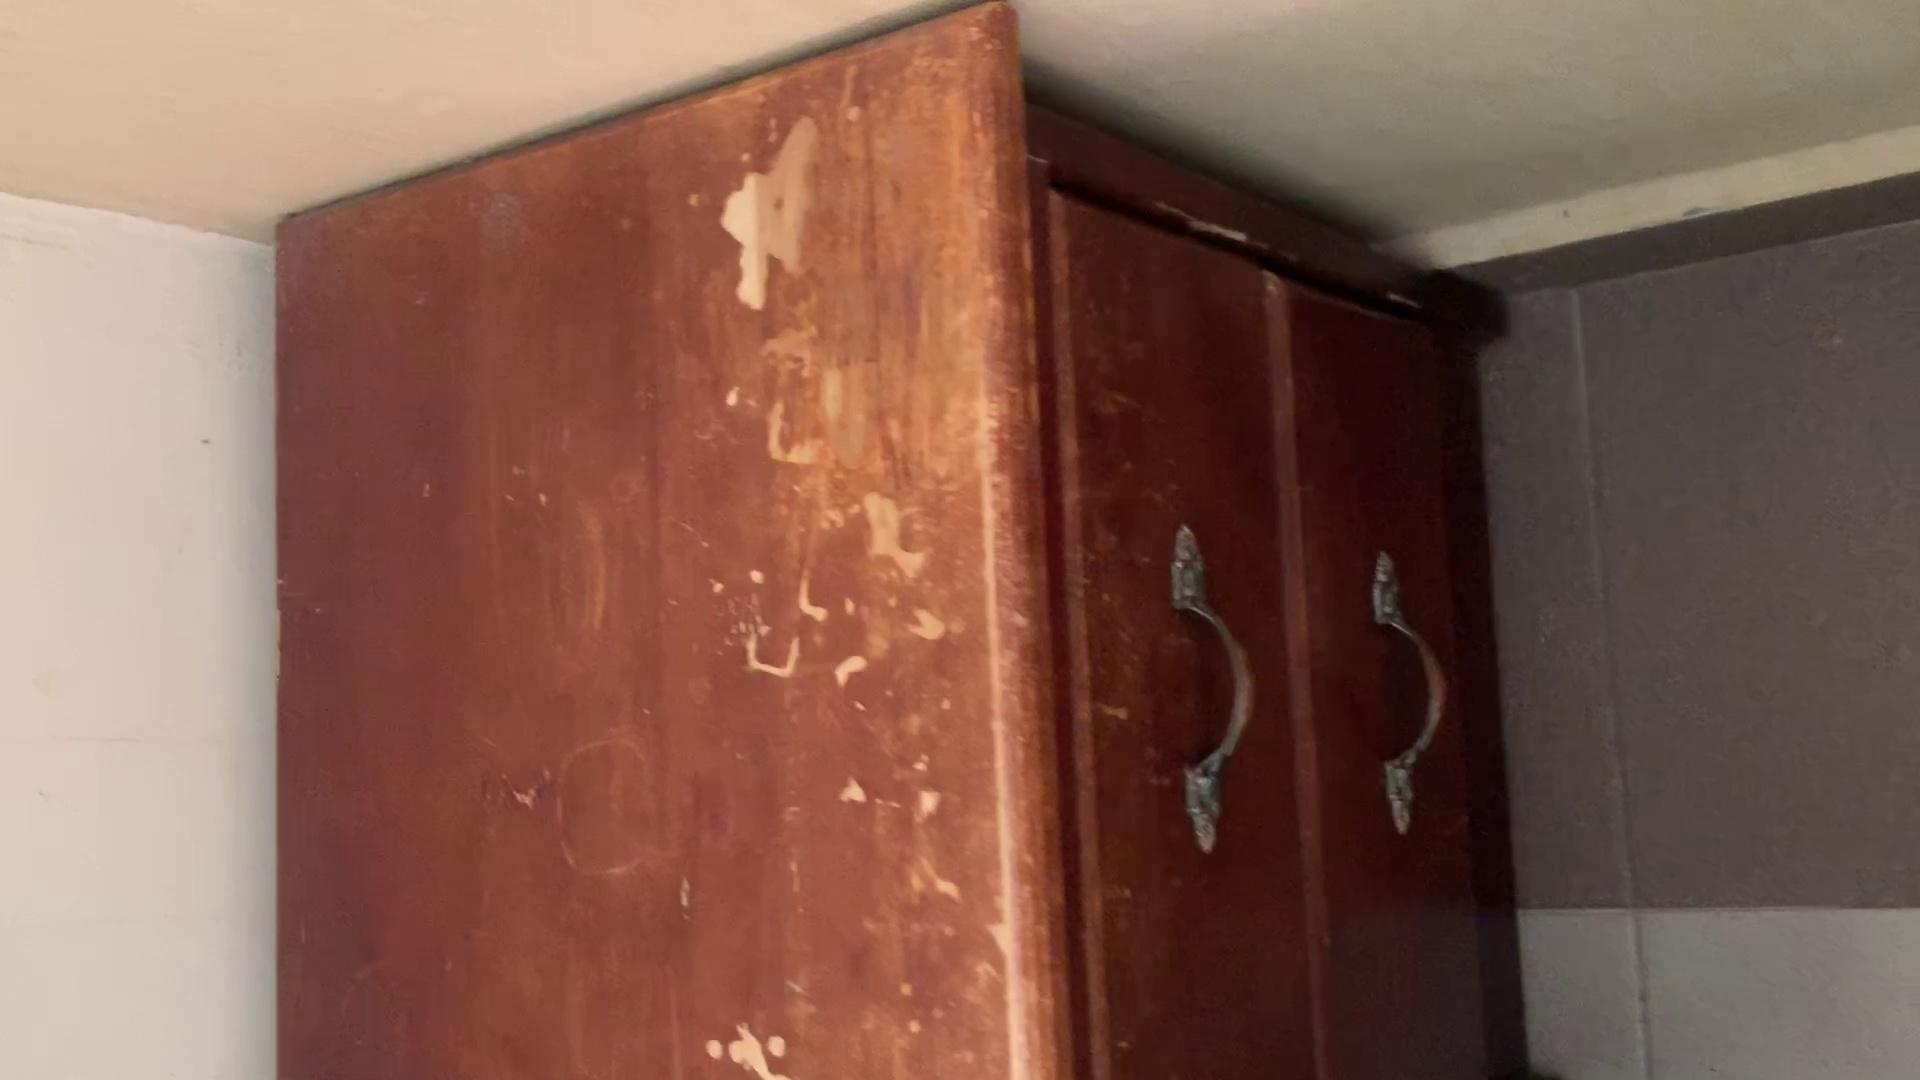cabinet_door: (1065, 245, 1283, 1080), (1295, 293, 1461, 1075)
handle: (1159, 517, 1262, 862), (1360, 543, 1460, 844)
